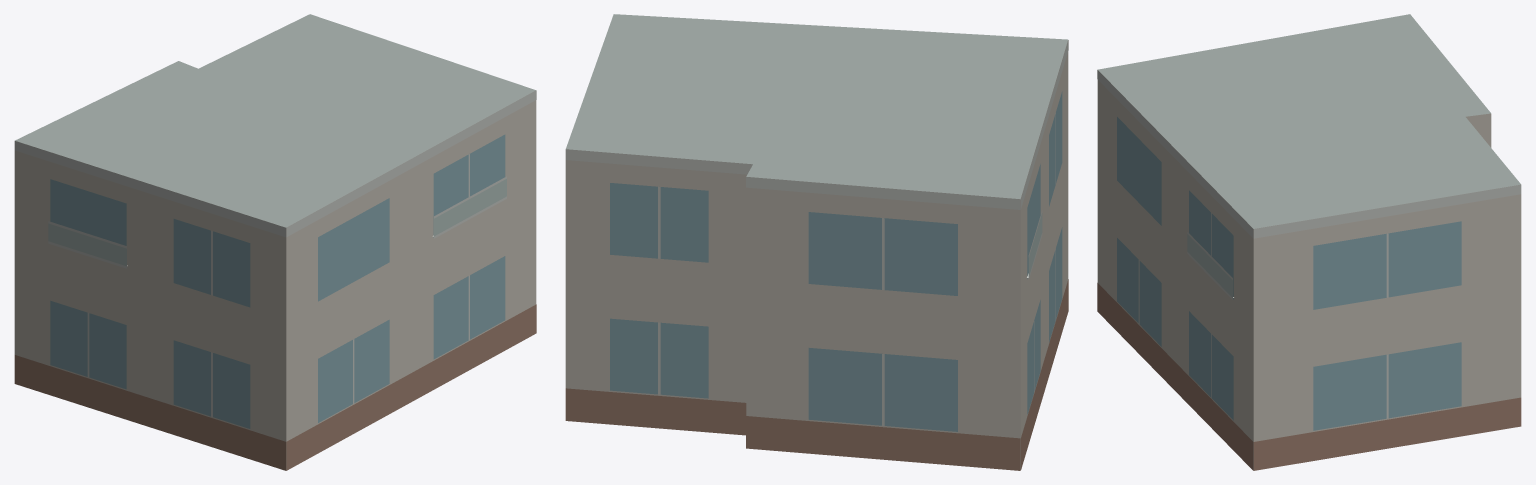
The model's file is survey-upis-32958646.glb.
3 views of the same model, side by side, from view 1: azimuth 30°, elevation 25°; view 2: azimuth 150°, elevation 25°; view 3: azimuth 270°, elevation 25° (orthographic). The views are drawn at different scales.
Visible parts, largest first — view 1: survey-upis-32958646.tmp; view 2: survey-upis-32958646.tmp; view 3: survey-upis-32958646.tmp.
Boxes of the visible parts, left/top/right/bottom form: survey-upis-32958646.tmp: left=14, top=14, right=536, bottom=470; survey-upis-32958646.tmp: left=565, top=14, right=1068, bottom=470; survey-upis-32958646.tmp: left=1097, top=14, right=1521, bottom=470.
Bounding box in the file's own units: 11.64 × 6.1 × 9.7.
